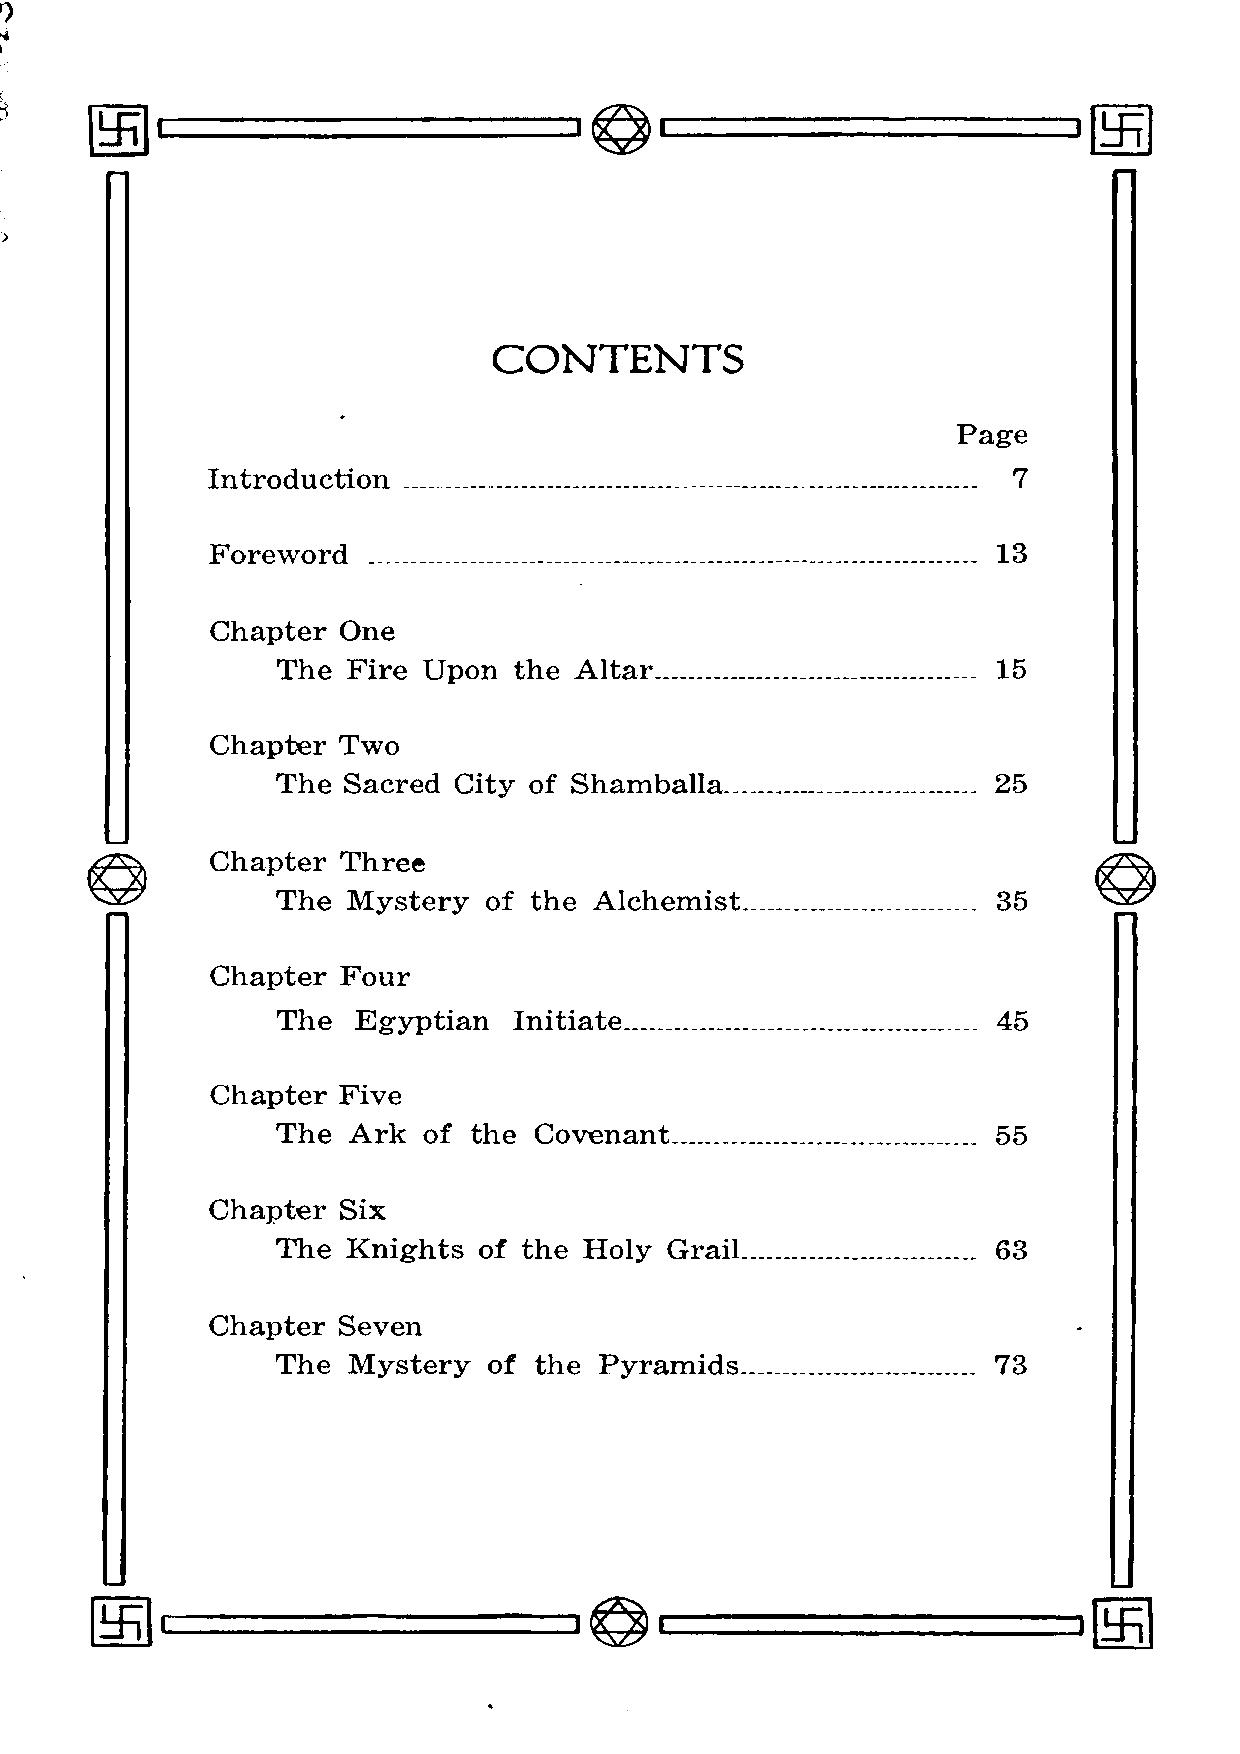TOC_chapter: (272, 1229, 739, 1266), (266, 884, 742, 917), (270, 1349, 737, 1380), (276, 766, 722, 798), (272, 1118, 670, 1151), (268, 650, 655, 682), (274, 1004, 621, 1037), (207, 1308, 423, 1341), (207, 845, 428, 874), (201, 462, 395, 494), (209, 960, 411, 990), (209, 615, 403, 646), (205, 1192, 389, 1223), (205, 1080, 405, 1108), (208, 730, 403, 758), (207, 535, 356, 568)
TOC_pagenumber: (994, 1119, 1029, 1150), (994, 886, 1029, 915), (996, 539, 1028, 570), (989, 770, 1028, 794), (1006, 462, 1036, 493), (994, 1235, 1027, 1263), (990, 1350, 1025, 1376), (998, 650, 1027, 680), (996, 1004, 1027, 1031)
chapter: (484, 337, 747, 378)
